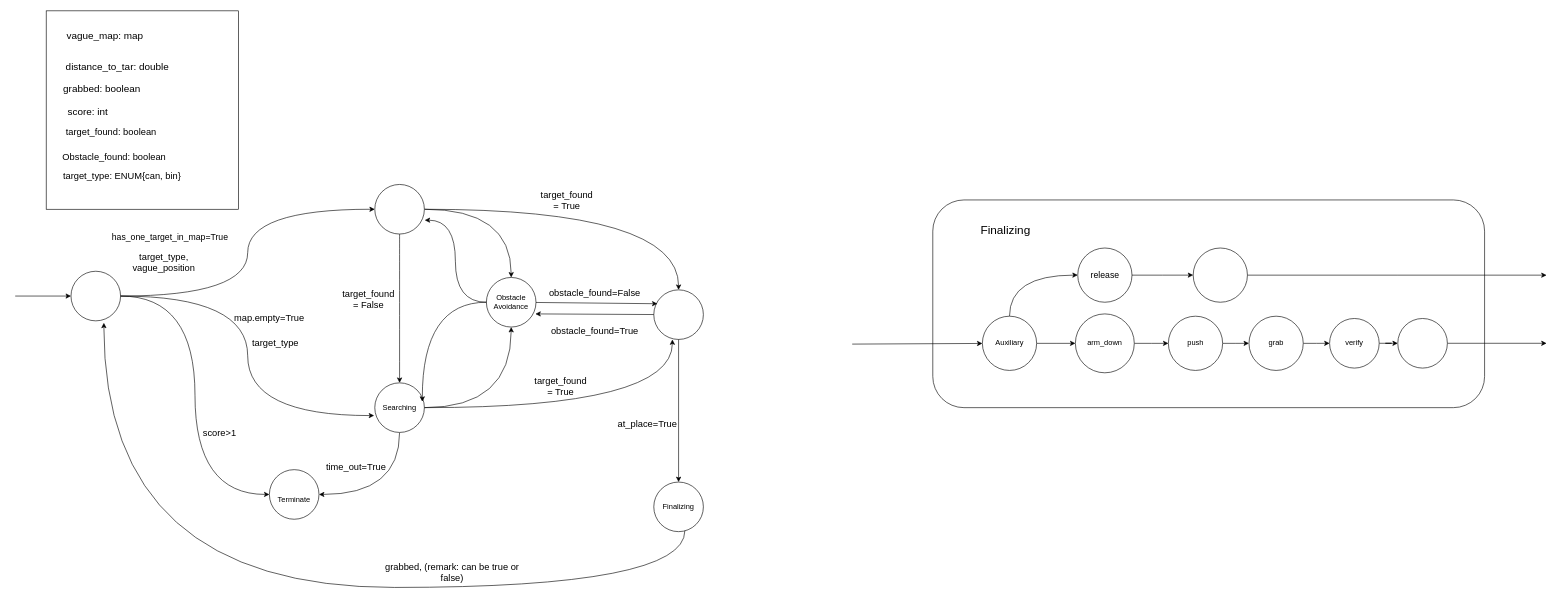
The diagram is 1562 pixels wide and 598 high, and some of its shapes have lost their labels. Each missing label, with the centre of its shape:
"Approaching" goes at point 678,314.
"carry_stance" goes at point 1422,343.
"empty_stance" goes at point 1220,274.
"Planning" goes at point 95,296.
"Verify Target Exist" goes at point 399,209.
